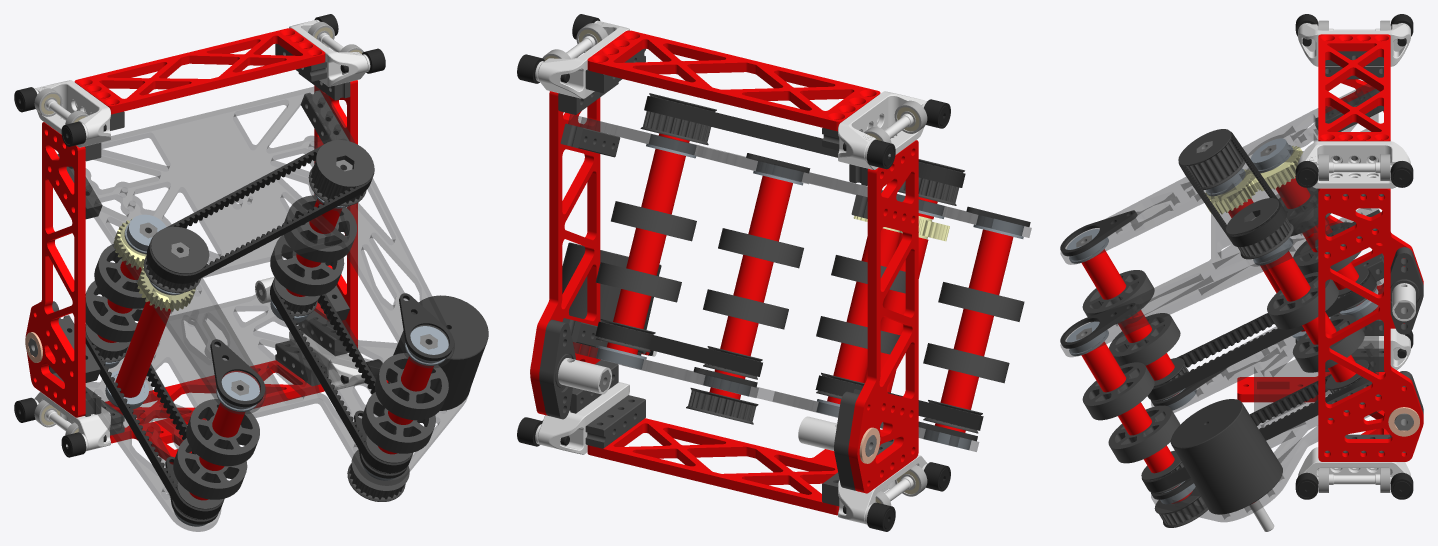
3 renders of one model, left to right at view 1: azimuth 30°, elevation 25°; view 2: azimuth 150°, elevation 25°; view 3: azimuth 270°, elevation 25°, orthographic. The views are drawn at different scales.
Visible parts, largest first — view 1: Top Coral Scoring Mechanism Plate, Bottom Coral Scoring Mechanism Plate, 2" OD 30A Thrifty Squish Wheel (TTB-0032) (×8), Part 4 (×2), SDS Elevator Block (×4), 0.25 in. Thick Plate, 80T 5M 9mm Wide Belt (×2), 26t HTD Pulley 19.05mm Wide (×2), Aluminum Nutstrip, #10-32, .500" Spacing (WCP-0336) (×5), Carriage Bottom Plate, 90T 5M 9mm Wide Belt, NEO Brushless Motor V1.1 (+8 smaller); view 2: Part 4 (×2), SDS Elevator Block (×4), 2" OD 30A Thrifty Squish Wheel (TTB-0032) (×8), 0.25 in. Thick Plate, Carriage Bottom Plate, Aluminum Nutstrip, #10-32, .500" Spacing (WCP-0336) (×6), Top Coral Scoring Mechanism Plate, HEX Spacer 1 in (×4), HEX Spacer 0.813 in (×4), 80T 5M 9mm Wide Belt (×2), Ratchet Plate (1/2" Hex) (WCP-0585) (×2), HEX Spacer 1.5 in (×2) (+10 smaller); view 3: Top Coral Scoring Mechanism Plate, Part 4 (×2), 2" OD 30A Thrifty Squish Wheel (TTB-0032) (×8), SDS Elevator Block (×4), Bottom Coral Scoring Mechanism Plate, NEO Brushless Motor V1.1, 80T 5M 9mm Wide Belt (×2), 0.25 in. Thick Plate, 26t HTD Pulley 19.05mm Wide (×2), BearingRetentionHat_Angled (×3), HEX Spacer 1.5 in (×2), .5" Hex ID 1.125" OD Flanged Bearing (217-2734) (×3) (+13 smaller).
Boxes of the visible parts, <box> form: Top Coral Scoring Mechanism Plate: <box>58,86,454,414</box>; Bottom Coral Scoring Mechanism Plate: <box>86,286,468,531</box>; 2" OD 30A Thrifty Squish Wheel (TTB-0032) (×8): <box>85,195,448,499</box>; Part 4 (×2): <box>25,80,357,417</box>; SDS Elevator Block (×4): <box>14,14,385,457</box>; 0.25 in. Thick Plate: <box>74,28,325,114</box>; 80T 5M 9mm Wide Belt (×2): <box>85,277,413,519</box>; 26t HTD Pulley 19.05mm Wide (×2): <box>143,140,374,292</box>; Aluminum Nutstrip, #10-32, .500" Spacing (WCP-0336) (×5): <box>57,90,349,386</box>; Carriage Bottom Plate: <box>105,360,324,464</box>; 90T 5M 9mm Wide Belt: <box>146,145,374,283</box>; NEO Brushless Motor V1.1: <box>386,295,488,410</box>; Part 4 (×2): <box>530,91,918,493</box>; SDS Elevator Block (×4): <box>517,14,950,531</box>; 2" OD 30A Thrifty Squish Wheel (TTB-0032) (×8): <box>595,201,1024,383</box>; 0.25 in. Thick Plate: <box>587,30,880,131</box>; Carriage Bottom Plate: <box>587,418,881,515</box>; Aluminum Nutstrip, #10-32, .500" Spacing (WCP-0336) (×6): <box>558,48,645,448</box>; Top Coral Scoring Mechanism Plate: <box>568,114,1031,237</box>; HEX Spacer 1 in (×4): <box>626,227,993,356</box>; HEX Spacer 0.813 in (×4): <box>613,289,978,409</box>; 80T 5M 9mm Wide Belt (×2): <box>595,321,983,430</box>; Ratchet Plate (1/2" Hex) (WCP-0585) (×2): <box>539,319,859,490</box>; HEX Spacer 1.5 in (×2): <box>748,176,1013,295</box>; Top Coral Scoring Mechanism Plate: <box>1060,84,1378,356</box>; Part 4 (×2): <box>1318,79,1423,461</box>; 2" OD 30A Thrifty Squish Wheel (TTB-0032) (×8): <box>1082,187,1364,463</box>; SDS Elevator Block (×4): <box>1295,14,1413,499</box>; Bottom Coral Scoring Mechanism Plate: <box>1151,278,1383,521</box>; NEO Brushless Motor V1.1: <box>1170,399,1282,531</box>; 80T 5M 9mm Wide Belt (×2): <box>1141,269,1376,492</box>; 0.25 in. Thick Plate: <box>1318,34,1390,141</box>; 26t HTD Pulley 19.05mm Wide (×2): <box>1178,129,1293,259</box>; BearingRetentionHat_Angled (×3): <box>1060,210,1226,406</box>; HEX Spacer 1.5 in (×2): <box>1081,249,1126,392</box>; .5" Hex ID 1.125" OD Flanged Bearing (217-2734) (×3): <box>1066,138,1292,355</box>.
Size of the model in its own units: 0.3009 by 0.3019 by 0.2557.
